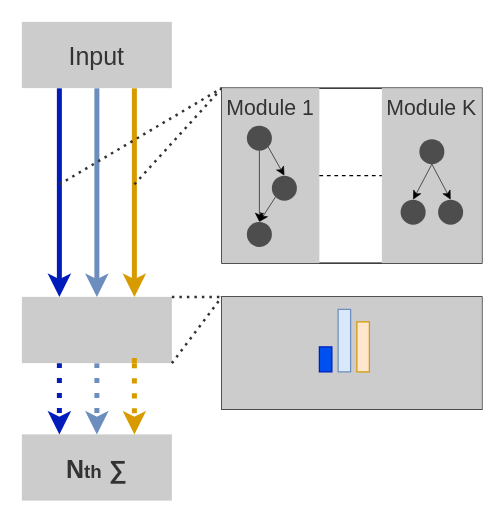
This 504x521 diagram has some shape labels left out. Each missing label, with the centre of its shape:
1 st ∑: [96,329]
Multinomial Sampling: [351,352]
